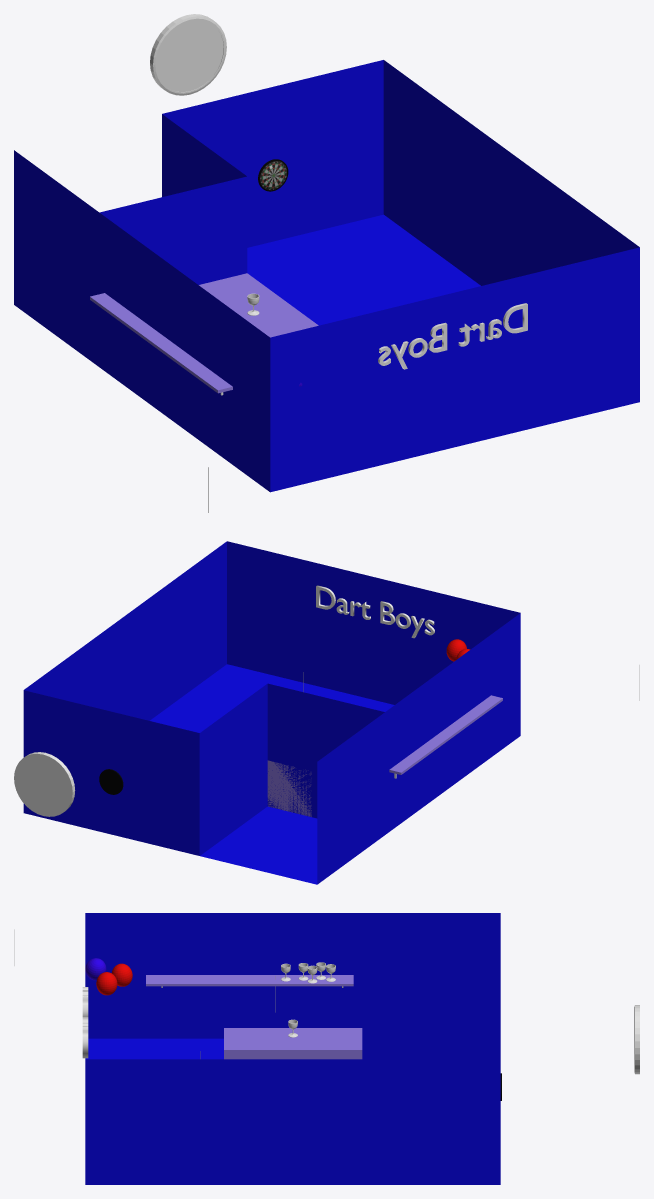
The model's file is Prostor.glb.
The picture shows the model from 3 angles, top to bottom: view 1: azimuth 30°, elevation 25°; view 2: azimuth 150°, elevation 25°; view 3: azimuth 270°, elevation 25°; orthographic projection. The views are drawn at different scales.
Visible parts, largest first — view 1: Plane.005, Plane.002, Plane.006, Plane.001, Plane, Plane.003, Cylinder, Plane.007, Cube, Cube.002, Text, Cylinder.001; view 2: Plane.005, Plane.002, Plane.001, Plane.006, Plane, Plane.007, Plane.003, Cylinder, Cube, Cube.002, Text, Cylinder.001; view 3: Plane.006, Plane.002, Plane.007, Cube, Plane, Cube.002, Text, Cylinder, Sphere.
Boxes of the visible parts, box(x1,y1,x2,y2) form: Plane.005: box(270, 247, 639, 492); Plane.002: box(14, 150, 270, 491); Plane.006: box(383, 60, 639, 285); Plane.001: box(162, 60, 383, 247); Plane: box(247, 214, 480, 325); Plane.003: box(99, 176, 247, 284); Cylinder: box(150, 14, 226, 95); Plane.007: box(162, 114, 246, 196); Cube: box(199, 273, 318, 337); Cube.002: box(90, 293, 232, 393); Text: box(378, 303, 527, 369); Cylinder.001: box(258, 159, 288, 191); Plane.005: box(227, 541, 520, 704); Plane.002: box(317, 613, 520, 884); Plane.001: box(23, 690, 199, 855); Plane.006: box(24, 541, 226, 720); Plane: box(150, 664, 394, 884); Plane.007: box(199, 684, 267, 855); Plane.003: box(267, 683, 384, 818); Cylinder: box(14, 752, 75, 816); Cube: box(267, 760, 311, 816); Cube.002: box(389, 695, 502, 774); Text: box(316, 585, 434, 638); Cylinder.001: box(99, 769, 123, 794); Plane.006: box(85, 1059, 500, 1184); Plane.002: box(85, 913, 500, 1038); Plane.007: box(362, 971, 500, 1059); Cube: box(224, 1028, 362, 1059); Plane: box(85, 1038, 223, 1059); Cube.002: box(146, 975, 353, 986); Text: box(82, 987, 88, 1058); Cylinder: box(634, 1005, 639, 1074); Sphere: box(96, 972, 117, 995).
Size of the model in its own units: 12.87 by 4.39 by 18.09.
Materials: 14 (1 with a texture image).
